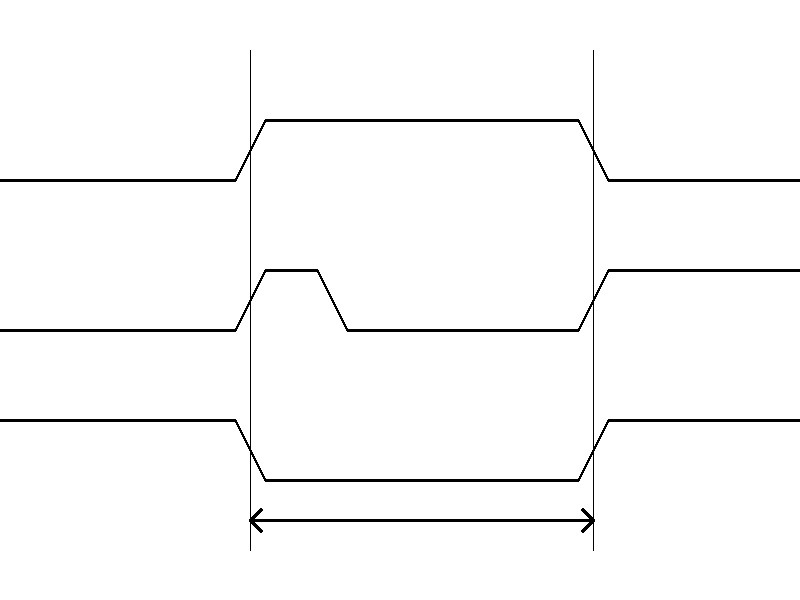double_arrow: (250, 505, 593, 535)
